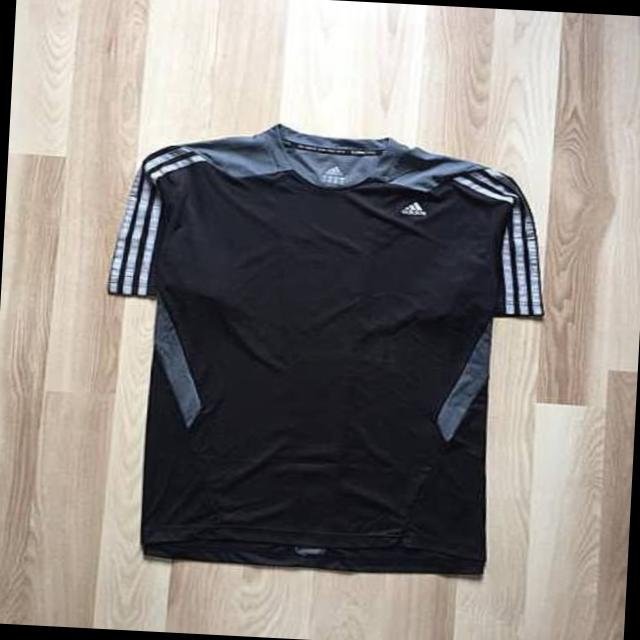T_SHIRT: (79, 101, 558, 590)
